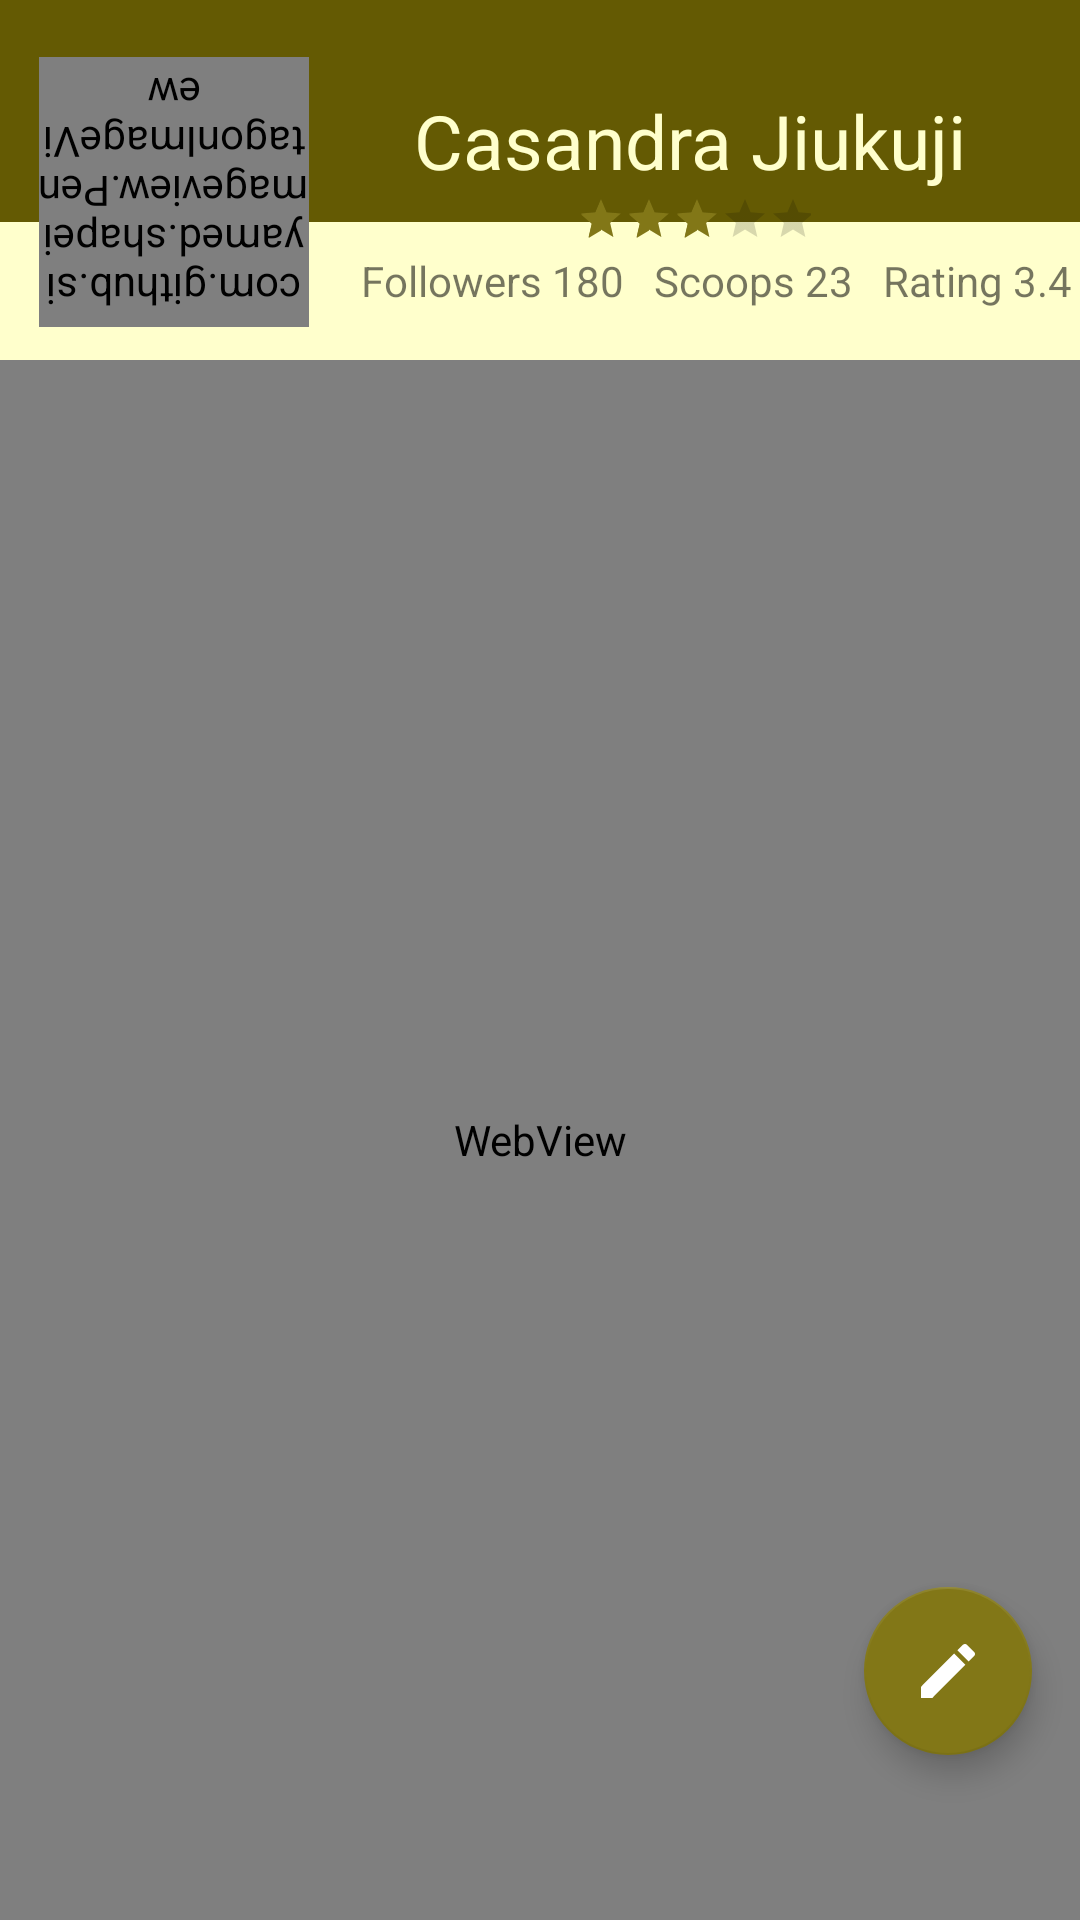

Icons on this 1080×1920 Android screen, each with the point to tap as point (x, y):
edit: point (948, 1671)
